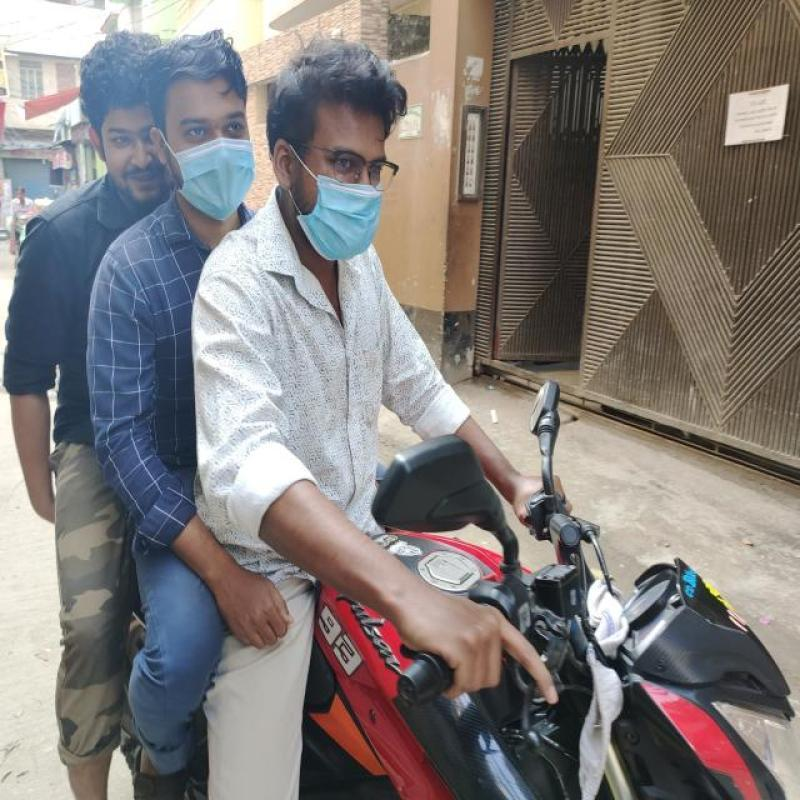nohelmet: (272, 37, 406, 267), (150, 30, 259, 249), (64, 9, 146, 202)
